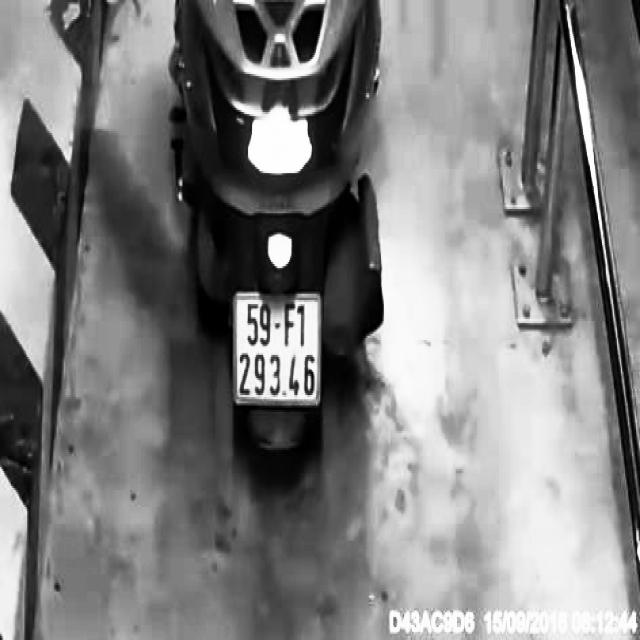license_plate: (230, 293, 328, 417)
